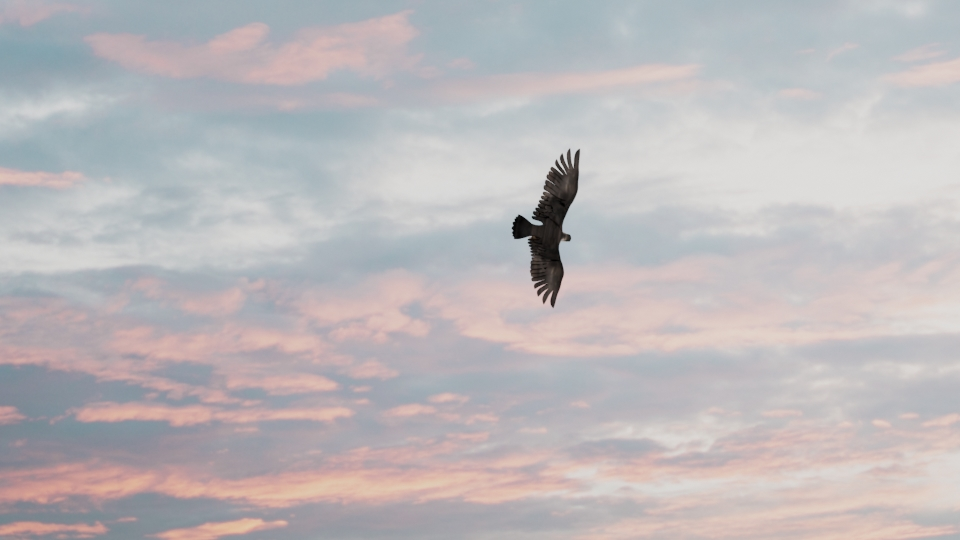bird: (509, 145, 584, 307)
